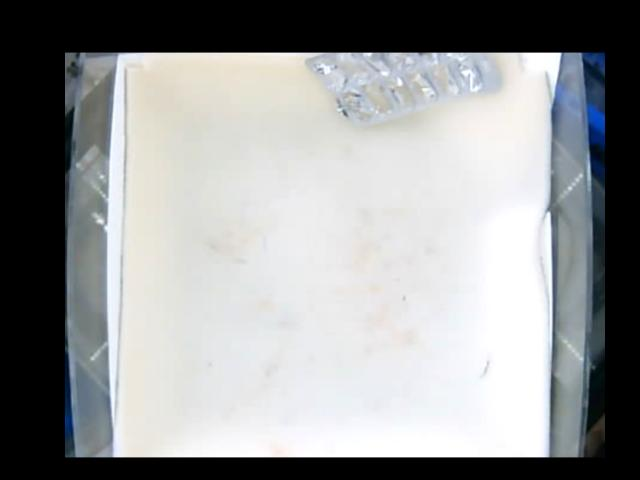Medicine: (306, 53, 502, 126)
